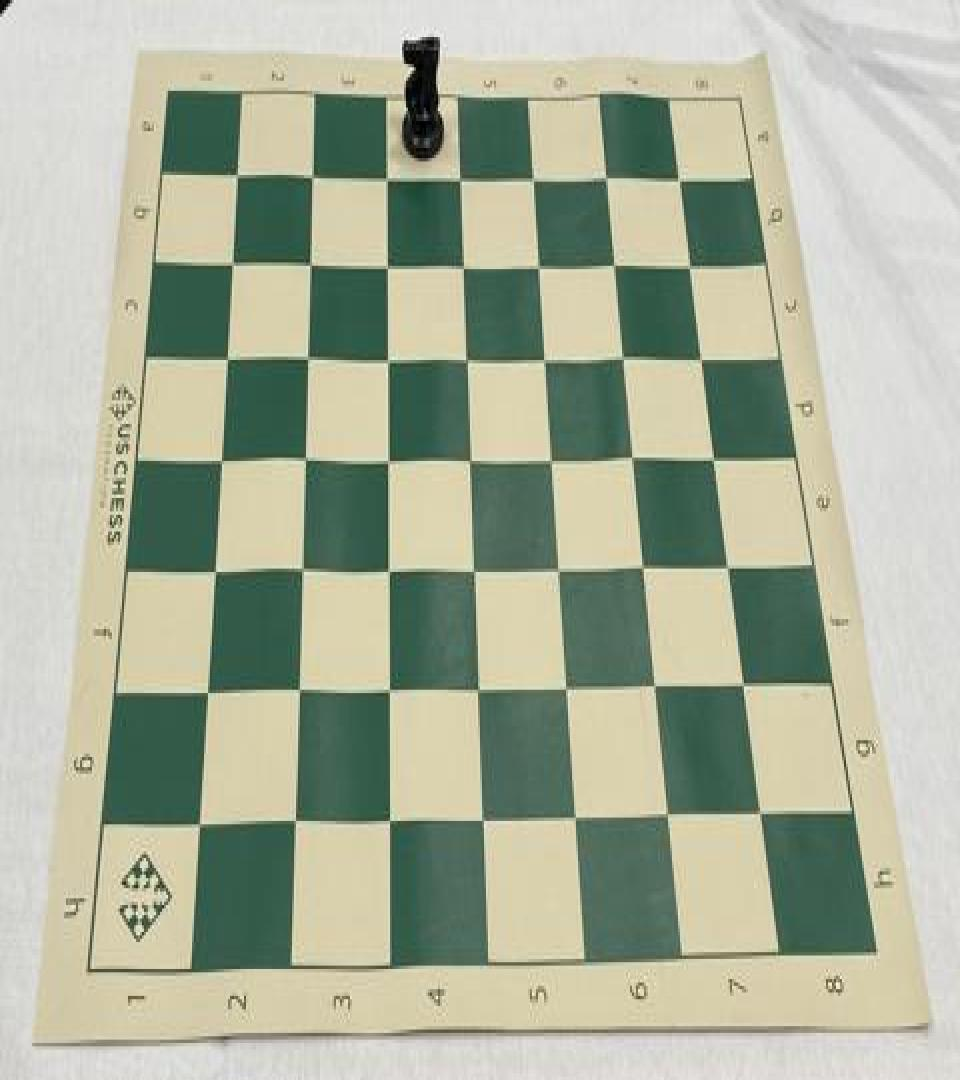xcorner: (281, 802, 303, 840), (448, 160, 470, 197), (374, 160, 396, 197), (300, 160, 322, 197), (226, 160, 248, 197), (679, 249, 701, 286), (703, 441, 725, 478), (622, 441, 644, 478), (540, 441, 562, 478), (458, 443, 480, 480), (375, 443, 397, 480), (292, 443, 314, 480), (208, 443, 230, 480), (717, 550, 739, 587), (632, 550, 654, 587), (547, 550, 569, 587), (462, 552, 484, 589), (375, 552, 397, 589), (289, 552, 311, 589), (732, 668, 754, 705), (644, 668, 666, 705), (376, 671, 398, 708), (285, 671, 307, 708), (194, 673, 216, 710), (564, 799, 586, 836), (470, 801, 492, 838), (376, 801, 398, 838), (186, 804, 208, 841), (667, 162, 689, 198), (595, 162, 617, 198), (522, 162, 544, 198), (603, 248, 625, 284), (527, 248, 549, 284), (451, 248, 473, 284), (375, 248, 397, 284), (298, 248, 320, 284), (220, 248, 242, 284), (690, 342, 712, 378), (612, 342, 634, 378), (533, 342, 555, 378), (454, 342, 476, 378), (375, 342, 397, 378), (295, 342, 317, 378), (215, 342, 237, 378), (202, 554, 224, 590), (555, 670, 577, 706), (466, 670, 488, 706), (749, 796, 771, 832), (656, 798, 678, 834)
